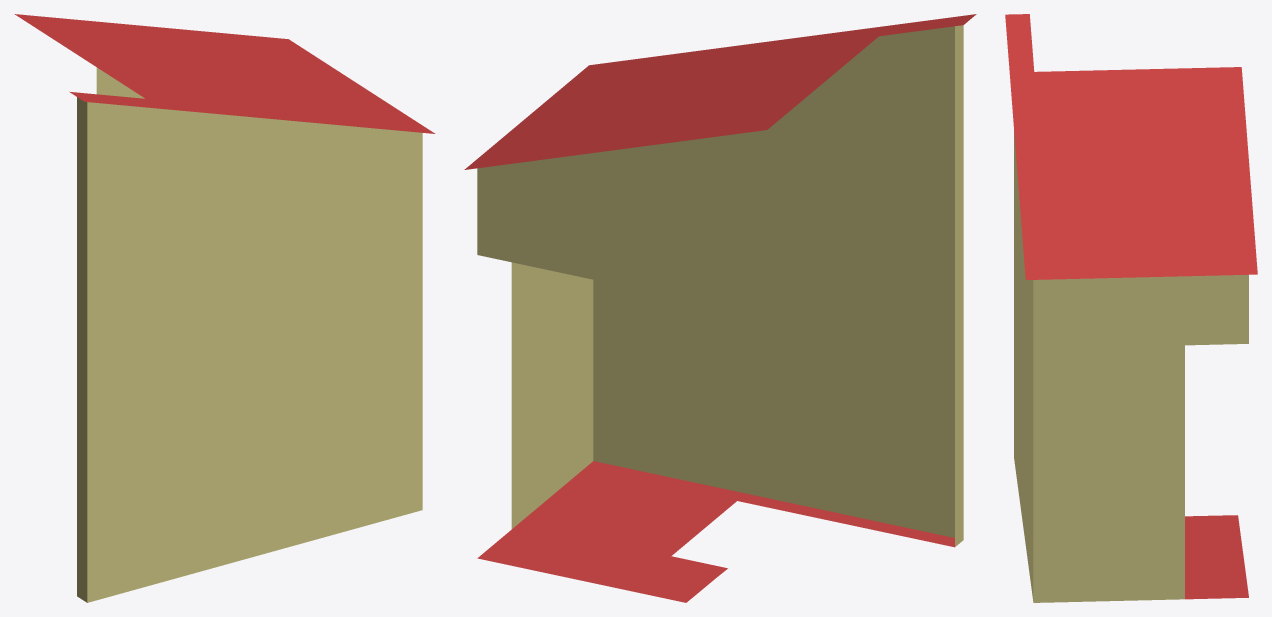
3 renders of one model, left to right at view 1: azimuth 30°, elevation 25°; view 2: azimuth 150°, elevation 25°; view 3: azimuth 270°, elevation 25°, orthographic. The views are drawn at different scales.
Bounding box in the file's own units: 11.08 × 7.68 × 14.71.
